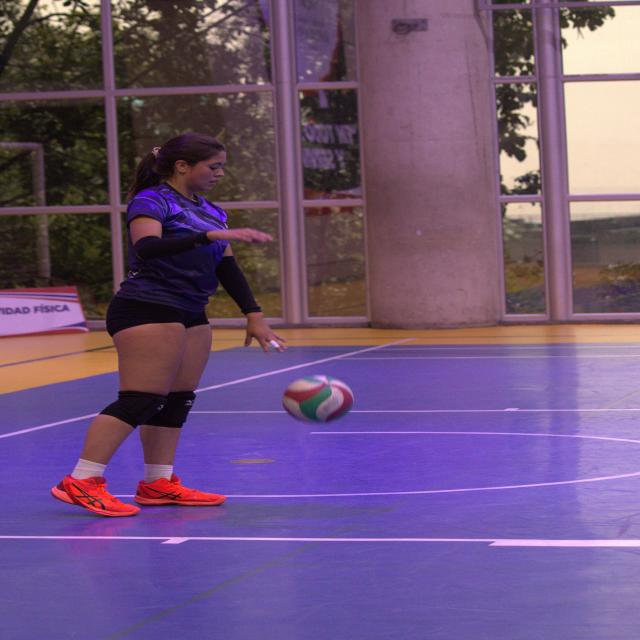volleyball: (280, 374, 354, 425)
